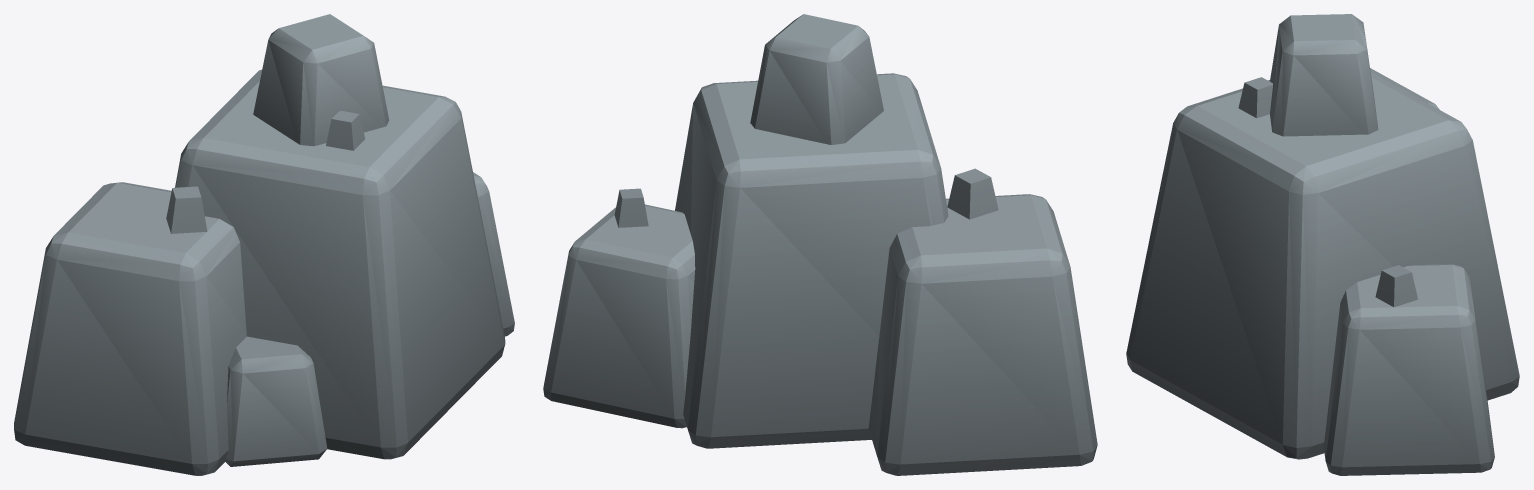
Rendered from kf_rock_2_f.fbx.
The picture shows the model from 3 angles, left to right: view 1: azimuth 30°, elevation 25°; view 2: azimuth 150°, elevation 25°; view 3: azimuth 270°, elevation 25°; orthographic projection.
Visible parts, largest first — view 1: kf_rock_2_f_LOD0; view 2: kf_rock_2_f_LOD0; view 3: kf_rock_2_f_LOD0.
Part boxes in pixels (left/top/right/bottom): kf_rock_2_f_LOD0: left=14, top=14, right=514, bottom=475; kf_rock_2_f_LOD0: left=543, top=14, right=1097, bottom=475; kf_rock_2_f_LOD0: left=1126, top=14, right=1519, bottom=475.
Size of what is drawn, in the model's own units: 9.94 by 6.87 by 6.89.
Materials: 1 (1 with a texture image).
